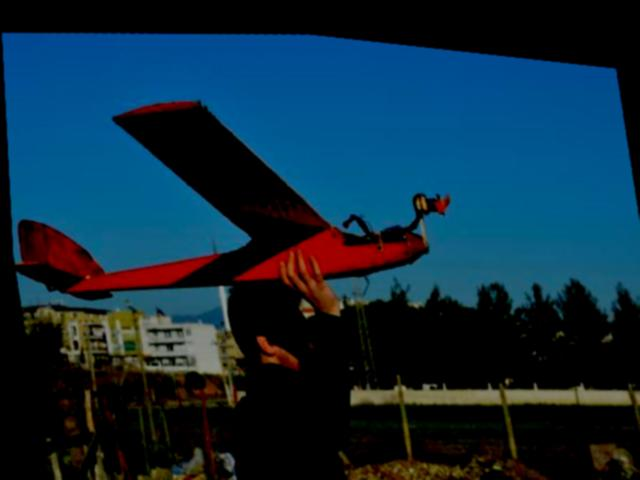iha: (2, 49, 464, 344)
